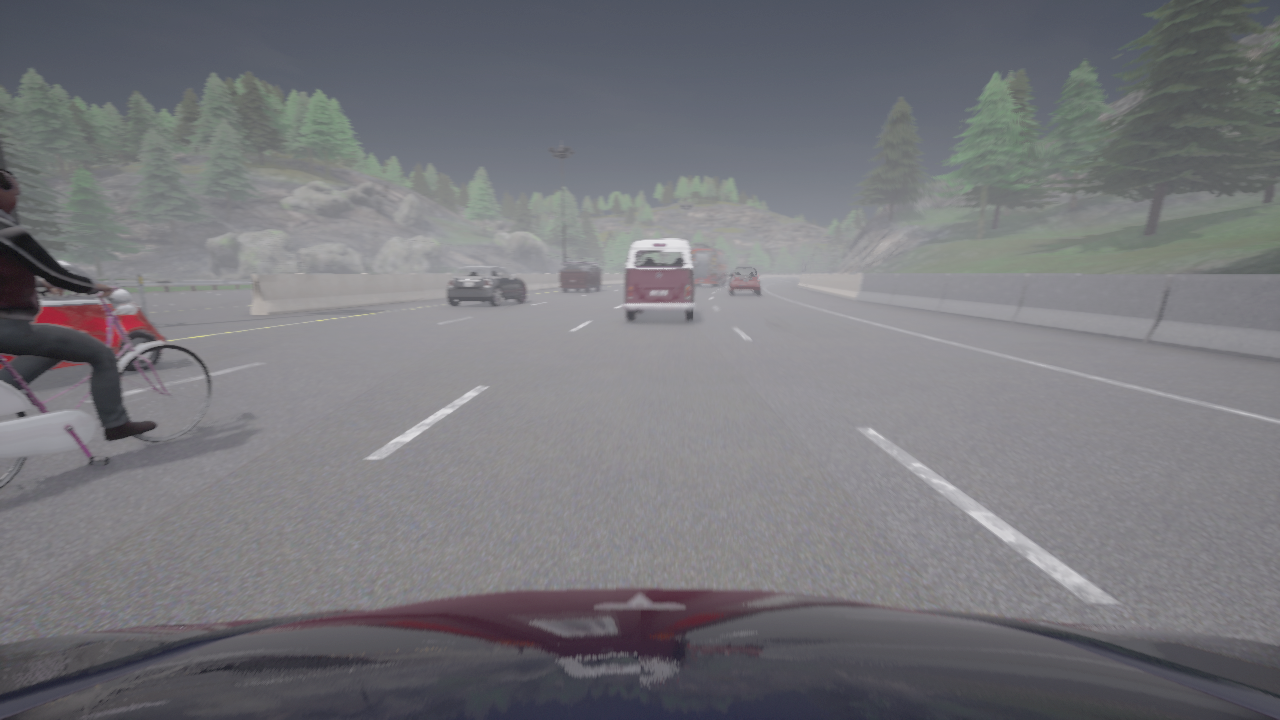cyclist: (0, 588, 1279, 719), (0, 286, 211, 490), (0, 260, 166, 371), (624, 239, 698, 321), (446, 266, 526, 306), (691, 243, 729, 286), (560, 261, 602, 292), (728, 266, 760, 295)
